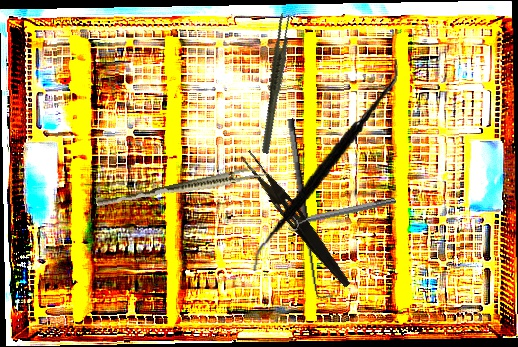Dressing Forceps: (235, 149, 358, 290)
Fixation Ring: (285, 192, 398, 233)
Hook Surgical: (284, 116, 334, 302)
Spatula Surgical: (250, 48, 399, 282)
Tissue Forceps: (235, 12, 315, 155), (95, 162, 267, 213)
